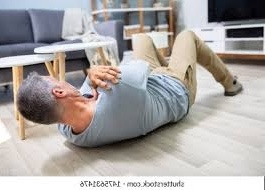fall: (17, 28, 247, 155)
